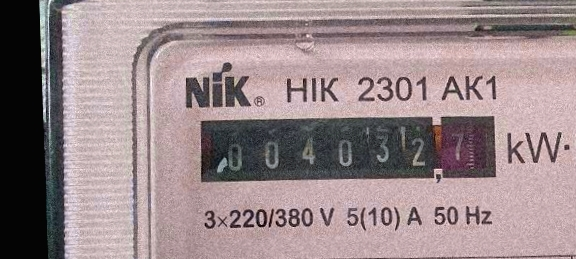0: (260, 137, 281, 171), (224, 138, 244, 172), (334, 135, 354, 168)
2: (408, 133, 427, 168)
3: (372, 132, 391, 164)
4: (297, 133, 318, 170)
7: (449, 129, 467, 163)
screen: (188, 102, 505, 199)
